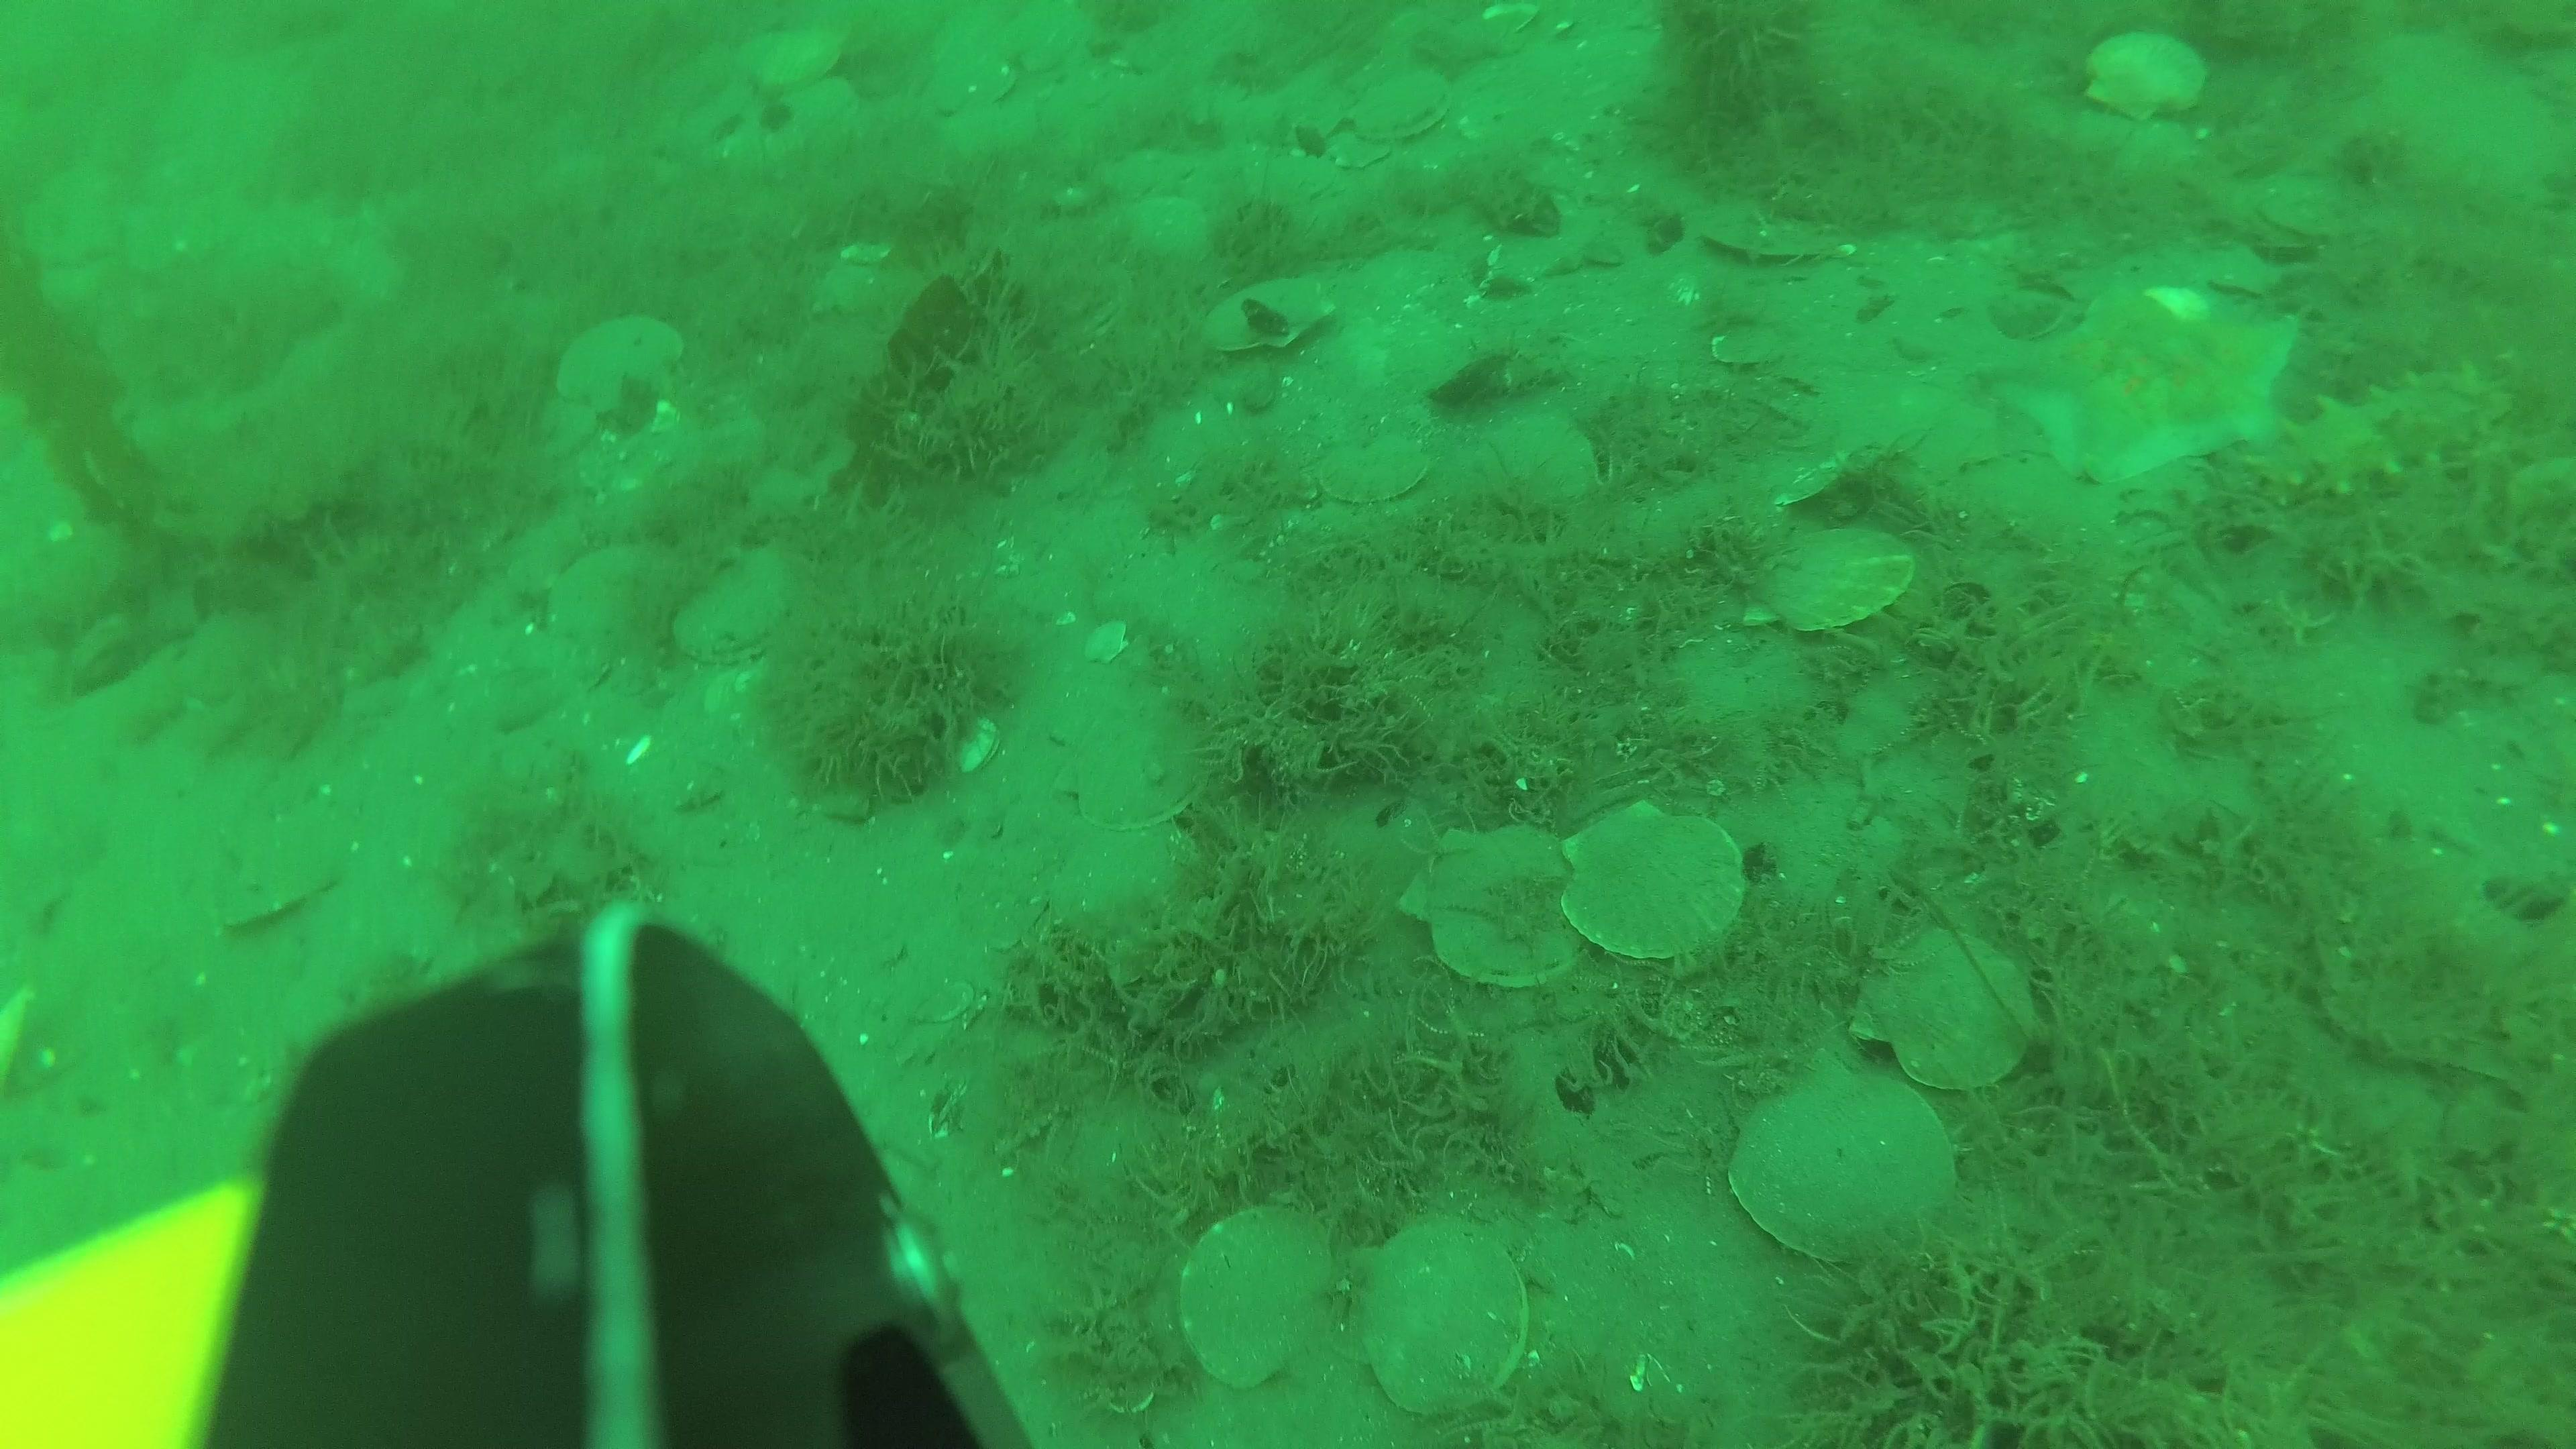holothurian: (2265, 364, 2532, 529)
scallop: (1732, 1074, 1971, 1269), (1355, 1200, 1537, 1426), (1845, 916, 2051, 1099), (1394, 824, 1601, 1001), (1562, 793, 1746, 970), (1182, 1210, 1332, 1396), (1762, 522, 1918, 637), (547, 543, 683, 655), (672, 557, 817, 658), (2082, 30, 2219, 134), (554, 318, 699, 416), (1488, 410, 1606, 525), (1208, 271, 1345, 357), (216, 860, 352, 941), (1700, 207, 1844, 283), (1311, 433, 1440, 511), (743, 23, 844, 101), (1350, 78, 1449, 152), (922, 44, 1023, 115)
starfish: (1996, 269, 2321, 508)
